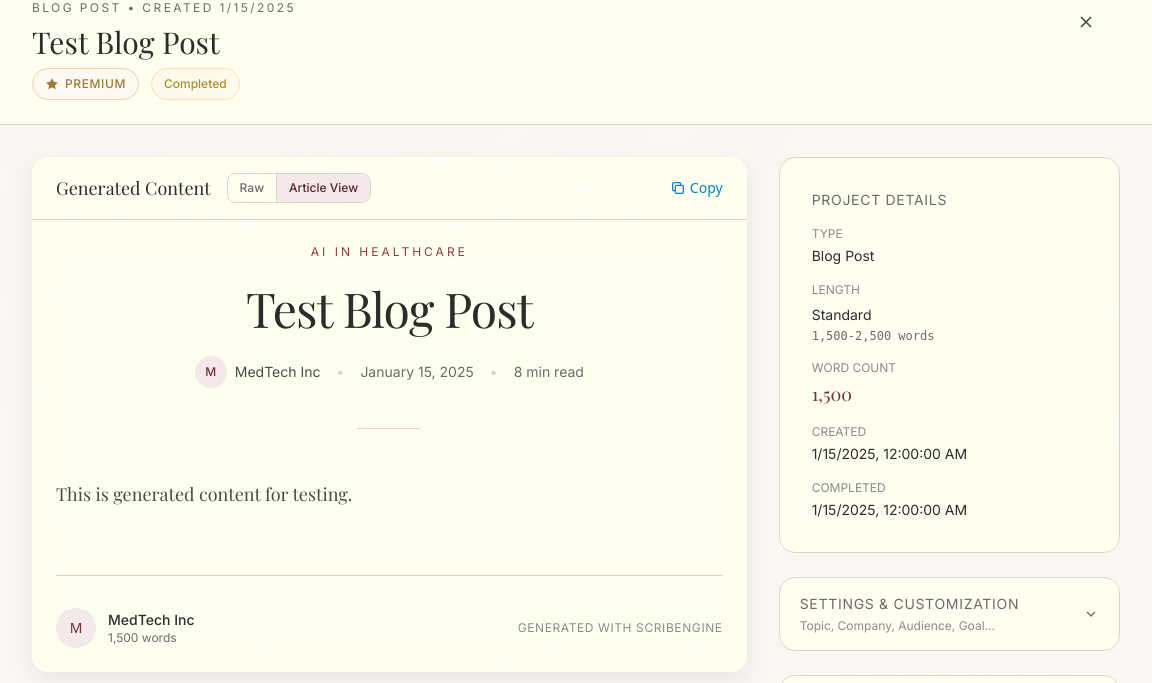
Scenario: Project Settings Panel › Additional Instructions › shows placeholder when additional info is empty
This screenshot has width=1152, height=683.
Step 1. Click the heading "Settings & Customization" → {"x": 909, "y": 604}, box [800, 594, 1019, 614]
(page scrolled)
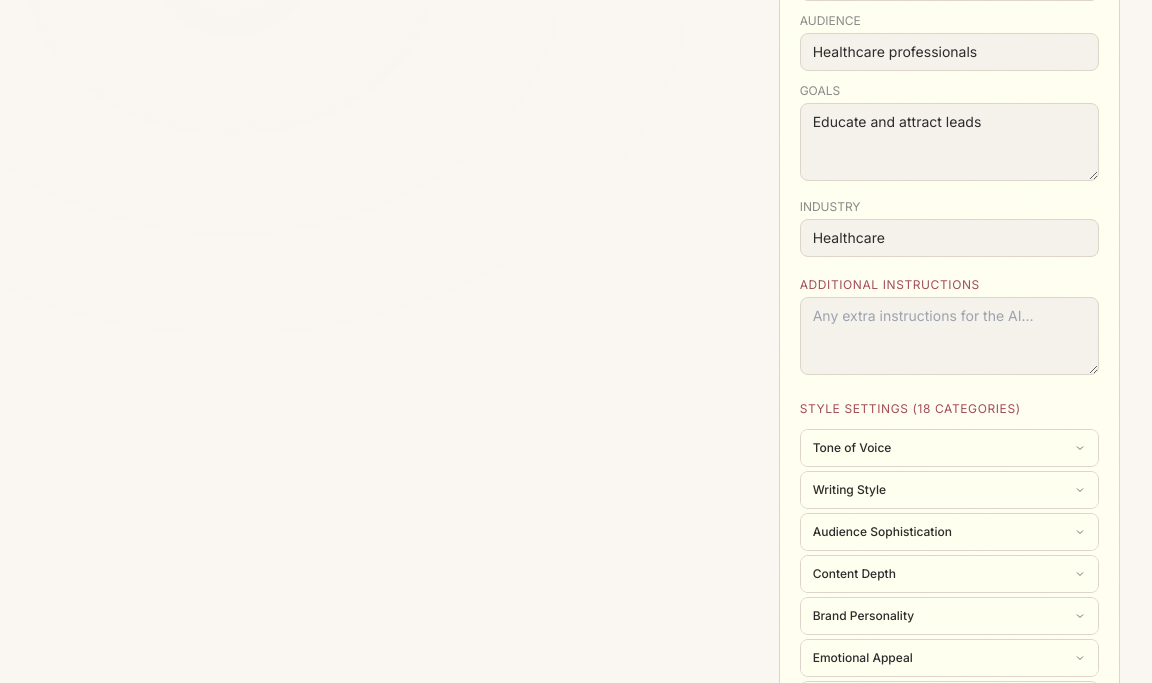
Expected: the text box with placeholder "Any extra instructions for the AI..." is shown, [800, 297, 1099, 375]
